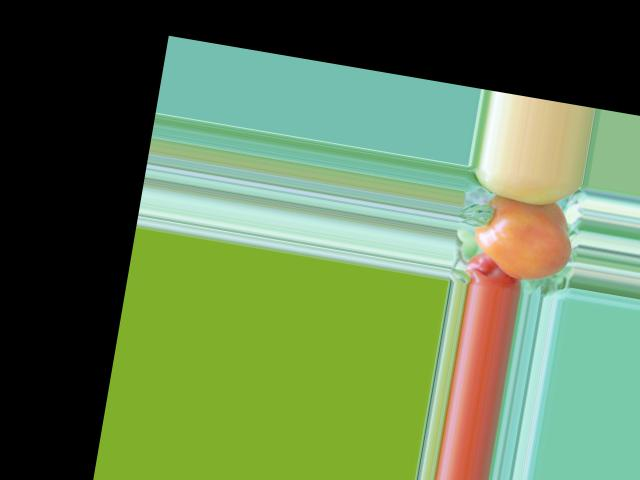tomato: (468, 193, 577, 286)
